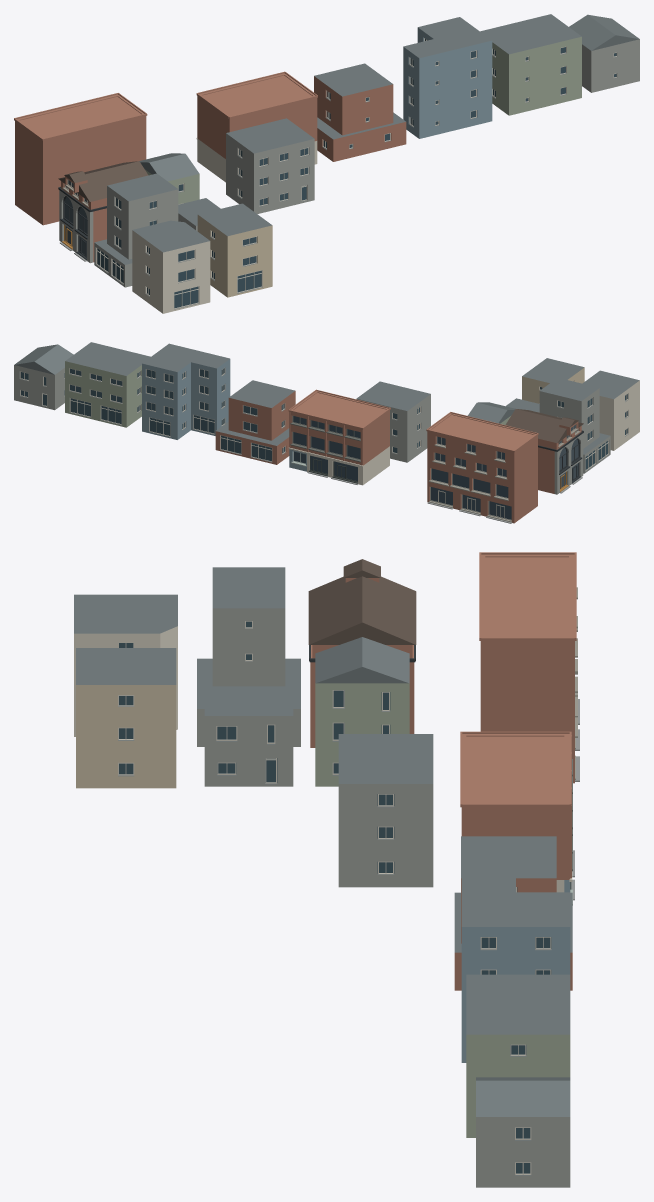
The model's file is Buildings0.fbx.
The picture shows the model from 3 angles, top to bottom: view 1: azimuth 30°, elevation 25°; view 2: azimuth 150°, elevation 25°; view 3: azimuth 270°, elevation 25°; orthographic projection. The views are drawn at different scales.
Visible parts, largest first — view 1: AB01_A01.001, AB01_B03.001, AB01_B04.001, AB01_B06.001, AB01_B02.001, AB01_B01.001, AB01_A06.001, AB01_A07.001, AB01_A04.001, AB01_A02.001, AB01_B05.001, AB01_A03.001 (+1 smaller); view 2: AB01_A01.001, AB01_B01.001, AB01_B03.001, AB01_B04.001, AB01_B02.001, AB01_A02.001, AB01_B06.001, AB01_A04.001, AB01_B05.001, AB01_A06.001, AB01_A07.001, AB01_A03.001 (+1 smaller); view 3: AB01_A01.001, AB01_B06.001, AB01_A07.001, AB01_B01.001, AB01_B04.001, AB01_B03.001, AB01_A04.001, AB01_B05.001, AB01_A03.001, AB01_A05.001, AB01_A02.001, AB01_A06.001 (+1 smaller).
Part boxes in pixels (x1,y1,x2,y2): AB01_A01.001: (14,93,147,225); AB01_B03.001: (403,17,492,138); AB01_B04.001: (480,14,581,115); AB01_B06.001: (226,118,314,213); AB01_B02.001: (314,63,406,161); AB01_B01.001: (196,71,317,182); AB01_A06.001: (132,220,210,313); AB01_A07.001: (197,203,272,297); AB01_A04.001: (94,173,178,287); AB01_A02.001: (58,161,148,263); AB01_B05.001: (569,14,639,92); AB01_A03.001: (139,153,199,204); AB01_A01.001: (426,412,538,523); AB01_B01.001: (288,389,390,485); AB01_B03.001: (142,343,230,439); AB01_B04.001: (65,342,150,427); AB01_B02.001: (215,380,295,464); AB01_A02.001: (505,409,583,494); AB01_B06.001: (356,381,430,462); AB01_A04.001: (539,378,610,473); AB01_B05.001: (14,344,73,410); AB01_A06.001: (582,370,639,450); AB01_A07.001: (522,358,584,403); AB01_A03.001: (467,402,515,424); AB01_A01.001: (479,552,579,783); AB01_B06.001: (338,734,433,887); AB01_A07.001: (76,648,176,788); AB01_B01.001: (460,731,574,905); AB01_B04.001: (466,974,570,1137); AB01_B03.001: (461,867,570,1062); AB01_A04.001: (197,567,300,746); AB01_B05.001: (476,1077,570,1187); AB01_A03.001: (315,637,409,786); AB01_A05.001: (204,686,293,786); AB01_A02.001: (308,559,416,747); AB01_A06.001: (74,594,177,736).
Size of the model in its own units: 99.45 by 13.6 by 42.8.
